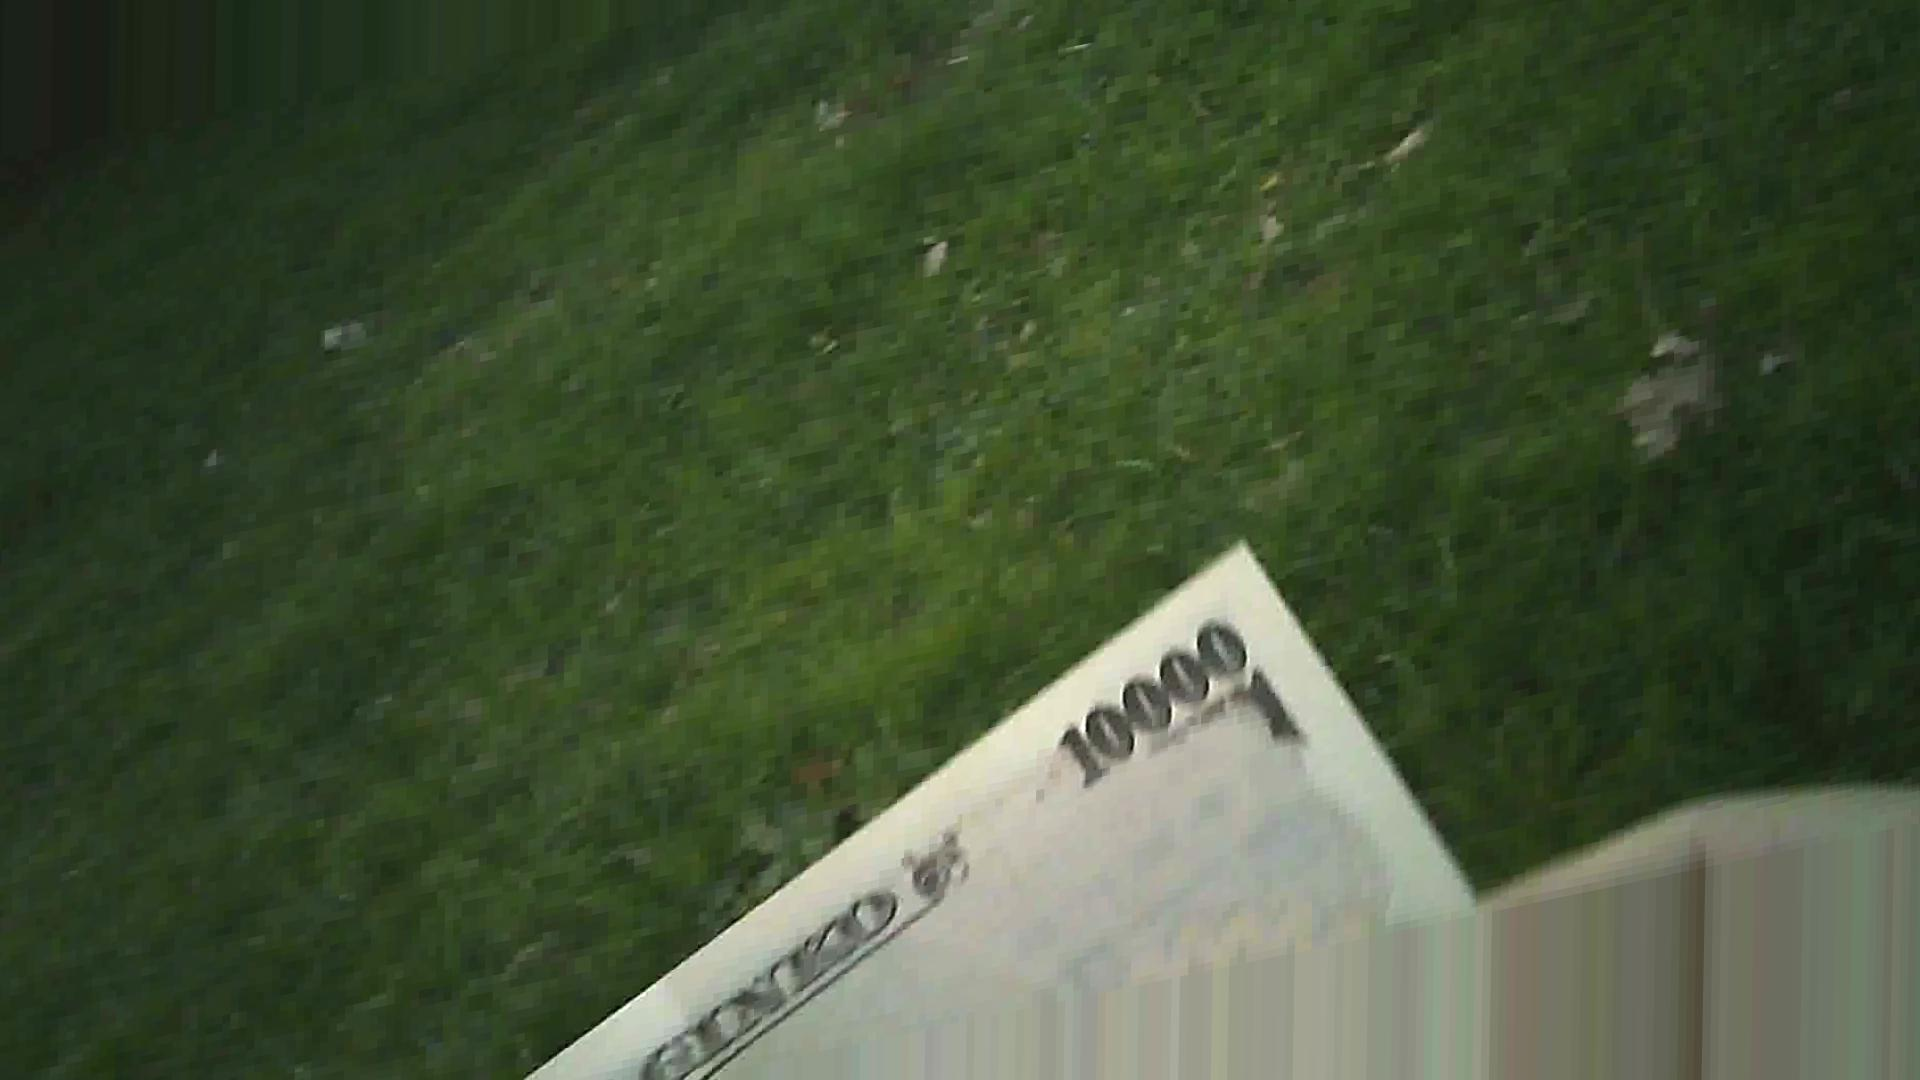10,000 Yen: (520, 534, 1490, 1029)
